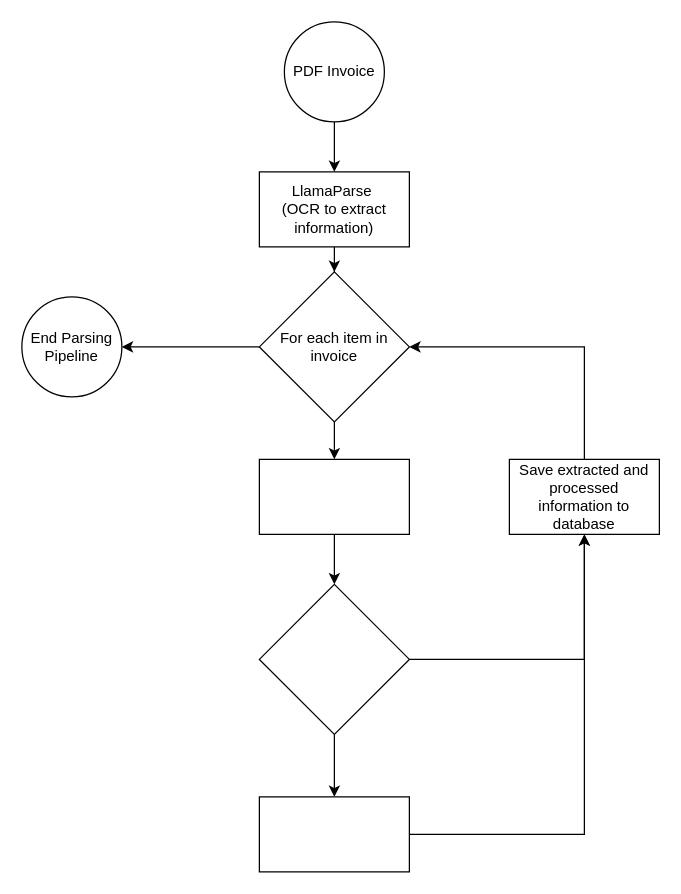
This 681x894 diagram has some shape labels left out. The shapes that lost their labels are listed below. From the top down, each one's centre as x and y in pixels, then its label:
At [333,496]: "Convert Item to embedding and match with existing product categories".
At [333,658]: "match with existing product categories".
At [333,834]: "LLM fallback create new invoice item category".
